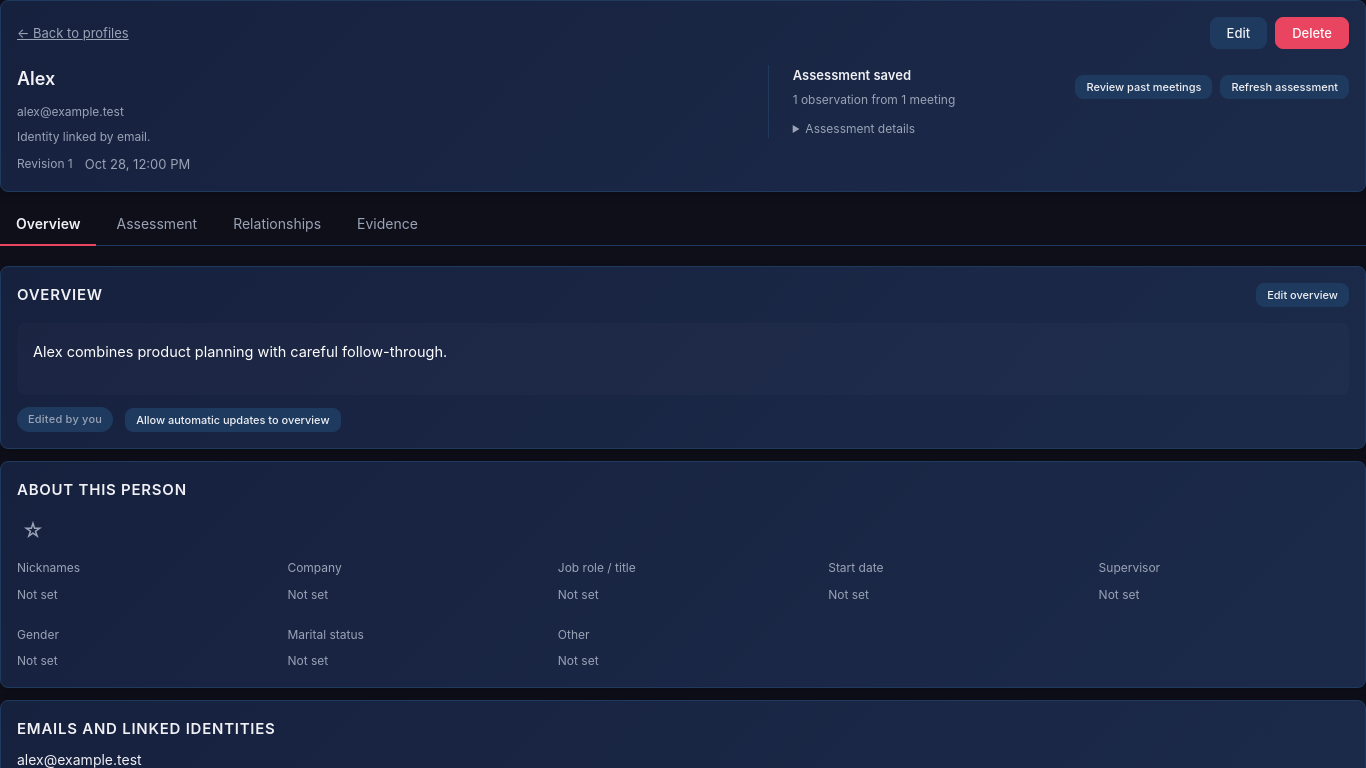
Scenario: ProfileDetailPage › defaults to Overview with every metadata field visible and no evidence request
Check: the text "Alex combines product planning with careful follow-through." is shown, box [33,343,447,360]
Check: the text "Gender" is shown, box [17,627,59,642]
Click the button "Edit overview". click: (1303,295)
box: [1256,283,1349,307]
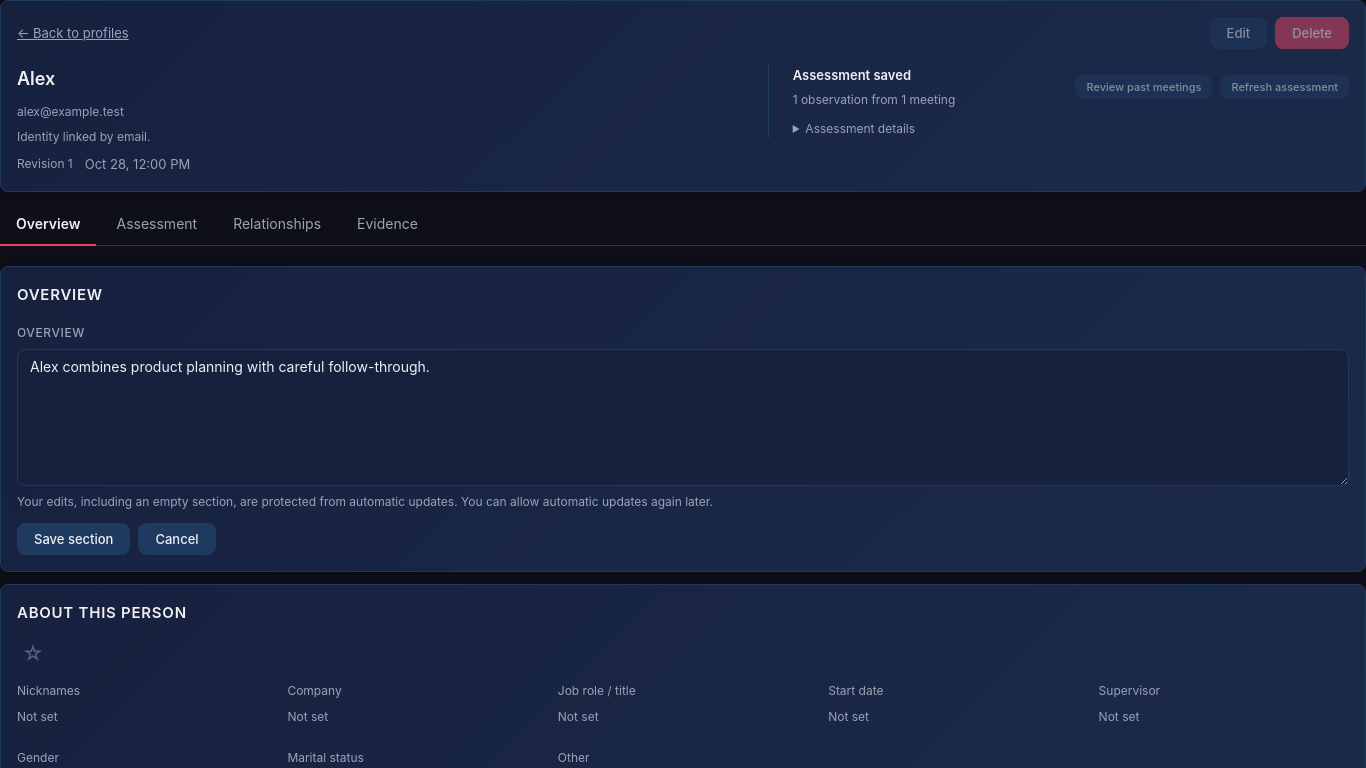
Check: the button "Refresh assessment" is disabled, box [1220,75,1349,99]
Check: the button "Edit" is disabled, box [1210,17,1267,49]
